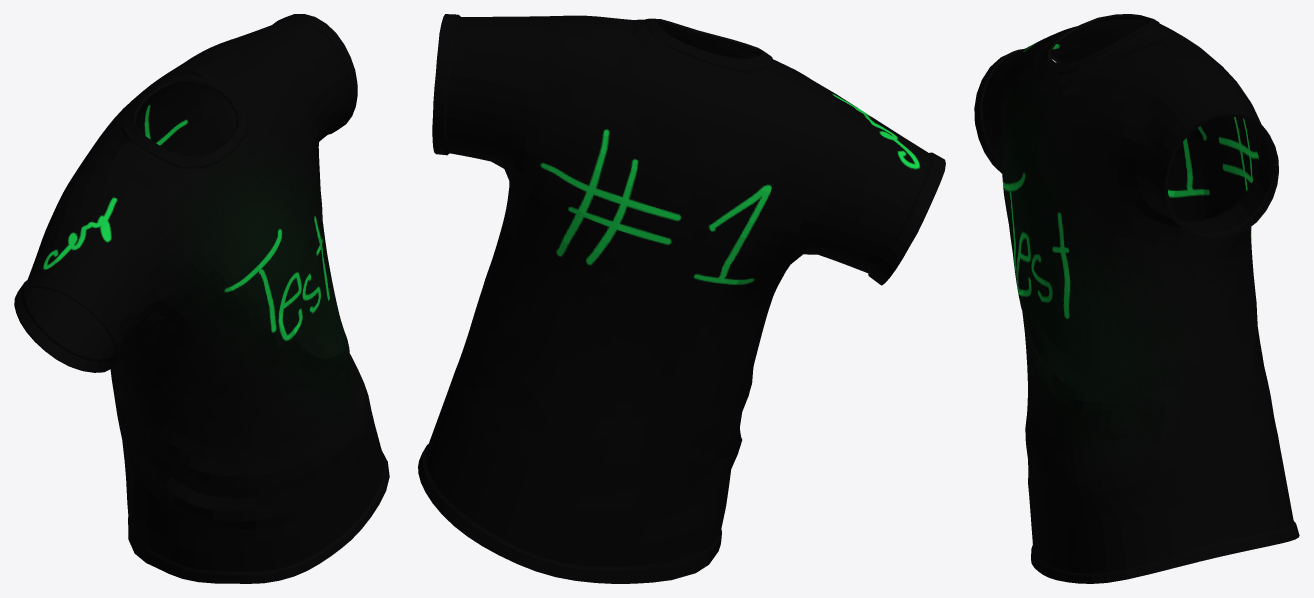
File: tricou.glb
3 renders of one model, left to right at view 1: azimuth 30°, elevation 25°; view 2: azimuth 150°, elevation 25°; view 3: azimuth 270°, elevation 25°, orthographic. The views are drawn at different scales.
Parts seen in each view (by area): view 1: node_id3; view 2: node_id3; view 3: node_id3.
Boxes of the visible parts, x1,y1,x2,y2 form: node_id3: (14, 14, 389, 583); node_id3: (418, 14, 945, 583); node_id3: (974, 14, 1299, 583).
Size of the model in its own units: 0.4663 by 0.5283 by 0.3071.
Materials: 1 (1 with a texture image).
